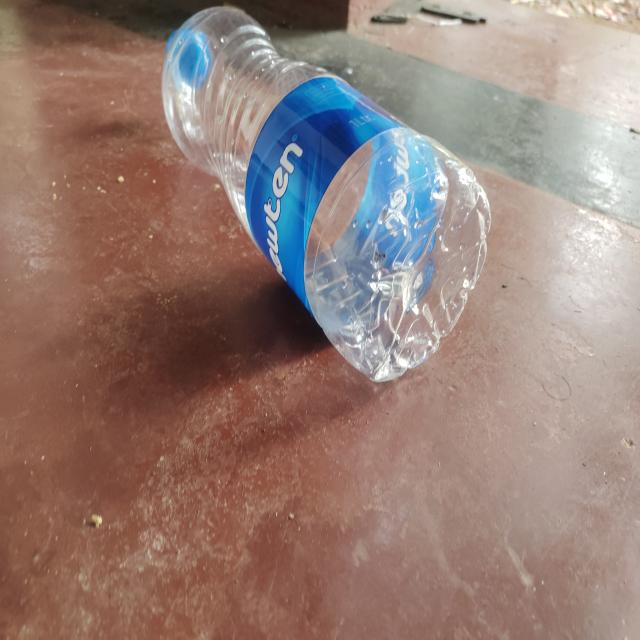plastic: (159, 0, 493, 384)
